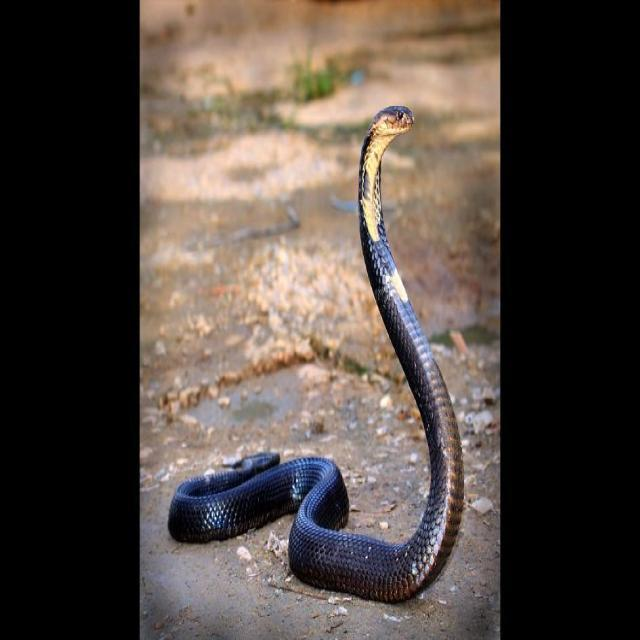Snake: (166, 102, 464, 602)
